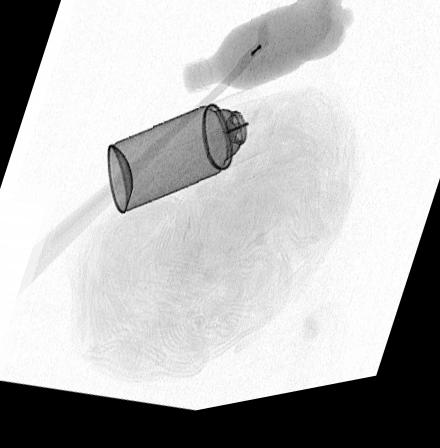Sprayer: (103, 94, 278, 220)
